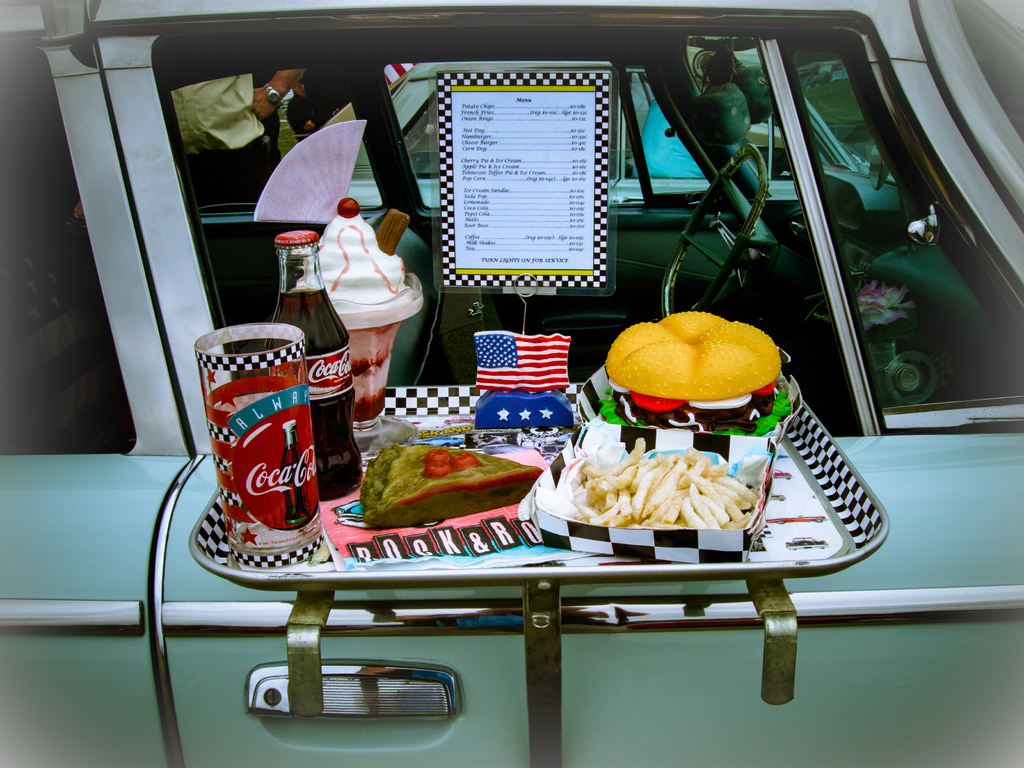Hamburger: (599, 309, 793, 433)
